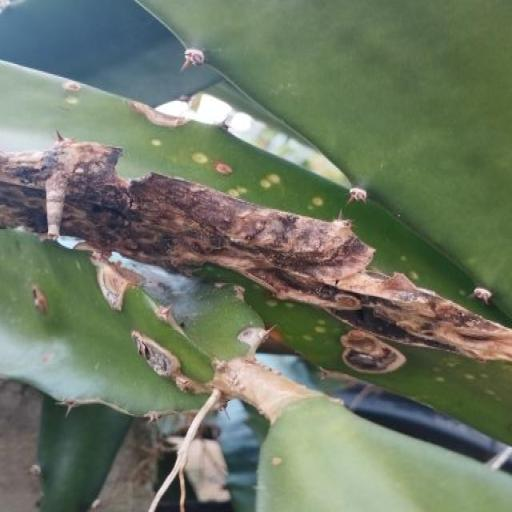stemcanker: (431, 361, 498, 405), (258, 162, 287, 200), (301, 314, 329, 350), (59, 78, 85, 108), (301, 187, 329, 214), (186, 144, 210, 172), (212, 157, 234, 180), (148, 131, 166, 153), (269, 448, 285, 472), (38, 348, 54, 370), (227, 184, 251, 198), (407, 268, 420, 285), (456, 282, 466, 299), (399, 252, 409, 266)
